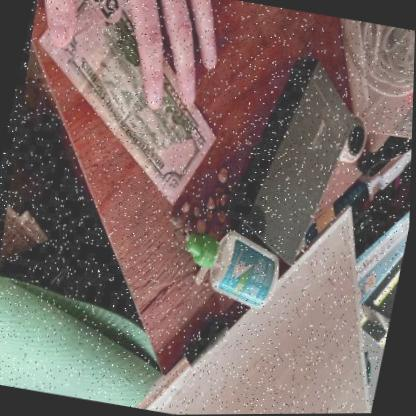dollar_back: (37, 0, 214, 205)
